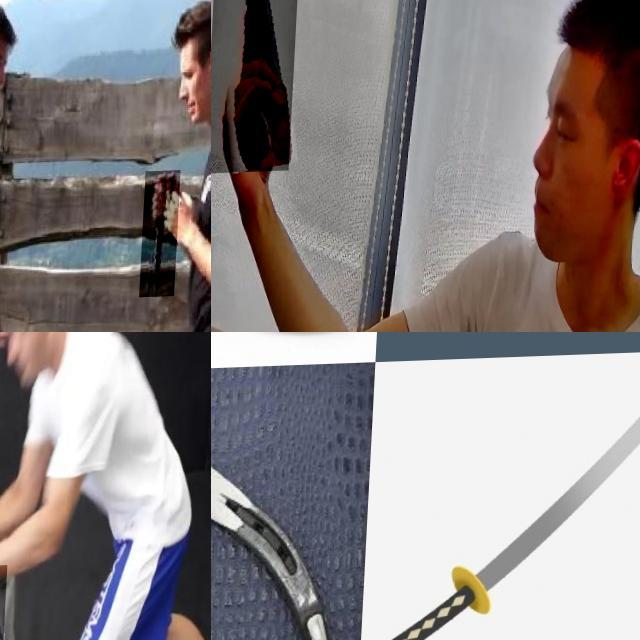-: (479, 364, 640, 586), (211, 332, 380, 462), (465, 332, 640, 453), (211, 368, 306, 586), (144, 174, 184, 300), (0, 567, 44, 640), (211, 332, 216, 338), (475, 412, 480, 418)
gun-knife-thesis - v11 Yolov5 augmented: (211, 0, 302, 174)
